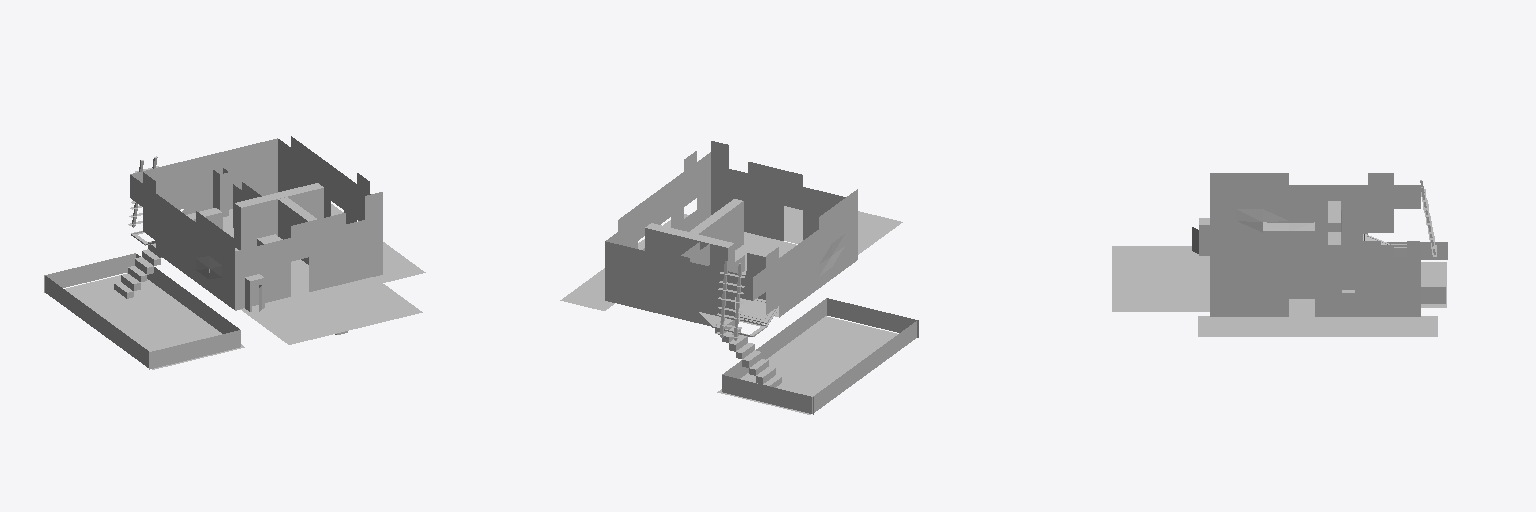
The model's file is cave.obj.
3 renders of one model, left to right at view 1: azimuth 30°, elevation 25°; view 2: azimuth 150°, elevation 25°; view 3: azimuth 270°, elevation 25°, orthographic.
Visible parts, largest first — view 1: house.048_Cube.120, house.029_Cube.102, house.025_Cube.098, house.005_Cube.079, house.043_Cube.115, house.028_Cube.101, house.045_Cube.117, house.036_Cube.109, house.004_Cube.078, house.024_Cube.097, house.047_Cube.119, house.000_Cube.074 (+4 smaller); view 2: house.005_Cube.079, house.029_Cube.102, house.025_Cube.098, house.028_Cube.101, house.043_Cube.115, house.000_Cube.074, house.036_Cube.109, house.024_Cube.097, house.048_Cube.120, house.039_Cube.112, house.004_Cube.078, house.047_Cube.119 (+6 smaller); view 3: house.029_Cube.102, house.004_Cube.078, house.048_Cube.120, house.000_Cube.074, house.047_Cube.119, house.039_Cube.112, house.025_Cube.098, house.051_Cube.123, house.001_Cube.075, house.024_Cube.097.
Part boxes in pixels (left/top/right/bottom): house.048_Cube.120: left=240, top=277, right=422, bottom=344; house.029_Cube.102: left=130, top=172, right=234, bottom=309; house.025_Cube.098: left=65, top=275, right=244, bottom=369; house.005_Cube.079: left=130, top=138, right=277, bottom=214; house.043_Cube.115: left=309, top=216, right=382, bottom=291; house.028_Cube.101: left=44, top=253, right=240, bottom=369; house.045_Cube.117: left=235, top=238, right=290, bottom=310; house.036_Cube.109: left=235, top=183, right=323, bottom=249; house.004_Cube.078: left=278, top=136, right=330, bottom=217; house.024_Cube.097: left=45, top=276, right=148, bottom=367; house.047_Cube.119: left=331, top=204, right=425, bottom=282; house.000_Cube.074: left=344, top=173, right=370, bottom=223; house.005_Cube.079: left=605, top=241, right=752, bottom=326; house.029_Cube.102: left=753, top=189, right=857, bottom=317; house.025_Cube.098: left=717, top=316, right=897, bottom=414; house.028_Cube.101: left=722, top=298, right=918, bottom=414; house.043_Cube.115: left=711, top=164, right=783, bottom=240; house.000_Cube.074: left=671, top=151, right=710, bottom=231; house.036_Cube.109: left=645, top=223, right=733, bottom=269; house.024_Cube.097: left=812, top=321, right=916, bottom=413; house.048_Cube.120: left=784, top=206, right=902, bottom=254; house.039_Cube.112: left=690, top=199, right=743, bottom=249; house.004_Cube.078: left=606, top=191, right=657, bottom=250; house.047_Cube.119: left=560, top=214, right=688, bottom=310; house.029_Cube.102: left=1210, top=173, right=1420, bottom=244; house.004_Cube.078: left=1315, top=245, right=1420, bottom=316; house.048_Cube.120: left=1112, top=246, right=1209, bottom=311; house.000_Cube.074: left=1210, top=234, right=1288, bottom=316; house.047_Cube.119: left=1198, top=316, right=1437, bottom=336; house.039_Cube.112: left=1236, top=281, right=1314, bottom=298; house.025_Cube.098: left=1421, top=262, right=1446, bottom=307; house.051_Cube.123: left=1263, top=231, right=1314, bottom=244; house.001_Cube.075: left=1289, top=257, right=1314, bottom=280; house.024_Cube.097: left=1387, top=242, right=1447, bottom=259.
Size of the model in its own units: 25.82 by 12.92 by 29.19.